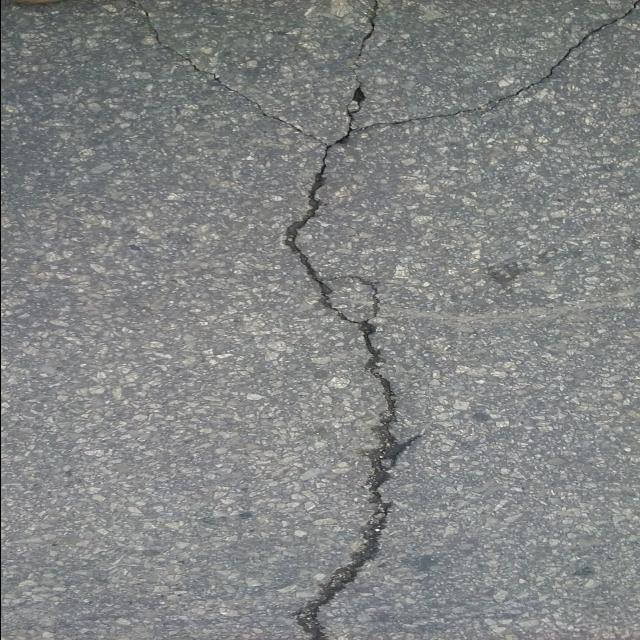Crack: (131, 0, 640, 640)
